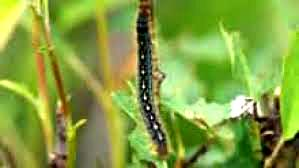Caterpillar: (131, 7, 174, 160), (48, 109, 65, 168)
